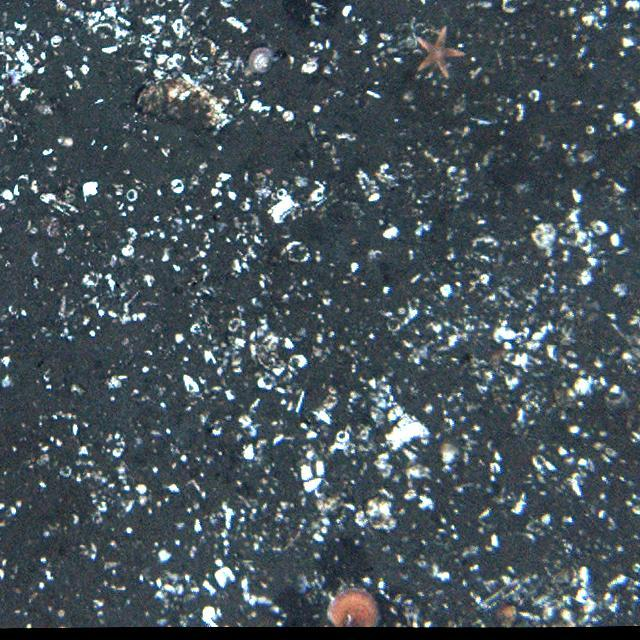scallop: (325, 585, 383, 628)
